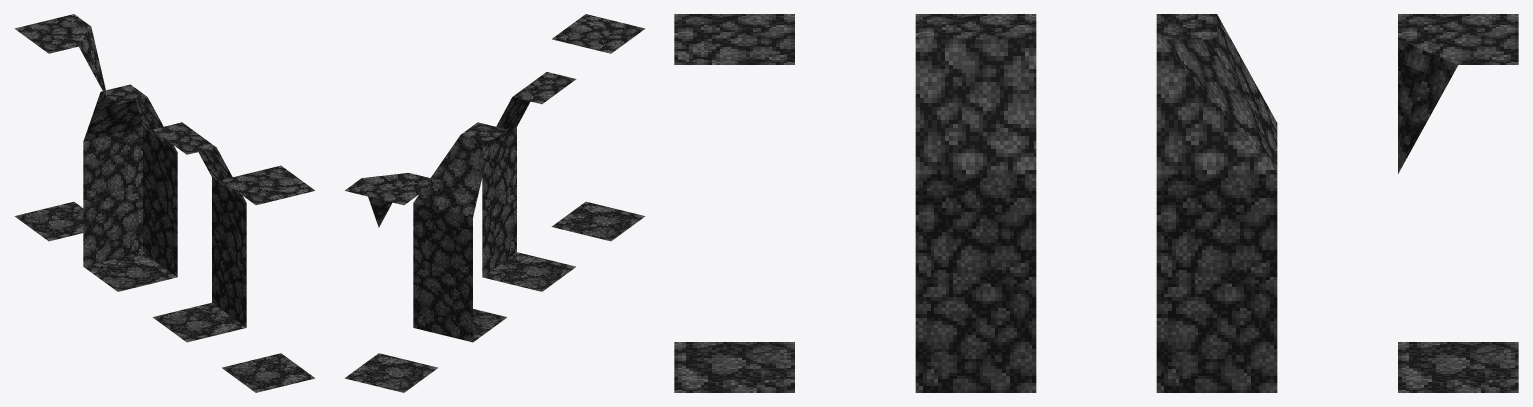
The model's file is tiles.glb.
3 renders of one model, left to right at view 1: azimuth 30°, elevation 25°; view 2: azimuth 150°, elevation 25°; view 3: azimuth 270°, elevation 25°, orthographic. The views are drawn at different scales.
Parts seen in each view (by area): view 1: corner-col, wall-col, trun-col, roof-col; view 2: corner-col, wall-col, trun-col, roof-col; view 3: wall-col, corner-col, trun-col, roof-col.
Boxes of the visible parts, bbox=[...] form: corner-col: bbox=[83, 84, 177, 291]; wall-col: bbox=[152, 122, 246, 342]; trun-col: bbox=[14, 14, 105, 241]; roof-col: bbox=[221, 165, 315, 392]; corner-col: bbox=[413, 122, 507, 342]; wall-col: bbox=[482, 72, 576, 291]; trun-col: bbox=[344, 173, 438, 392]; roof-col: bbox=[551, 14, 645, 241]; wall-col: bbox=[915, 14, 1036, 392]; corner-col: bbox=[1156, 14, 1277, 392]; trun-col: bbox=[1398, 14, 1518, 392]; roof-col: bbox=[674, 14, 794, 392].
Size of the model in its own units: 1 by 3 by 7.
Materials: 1 (1 with a texture image).
